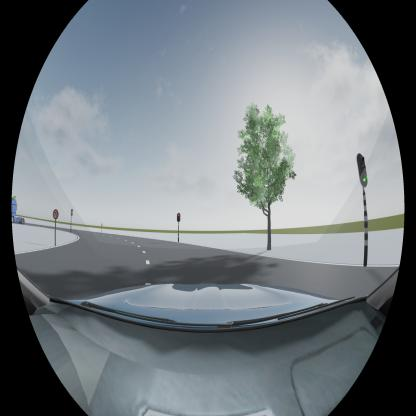Green Light: (357, 152, 369, 187)
Red Light: (177, 213, 181, 223)
Speed Limit 70: (53, 210, 59, 219)
